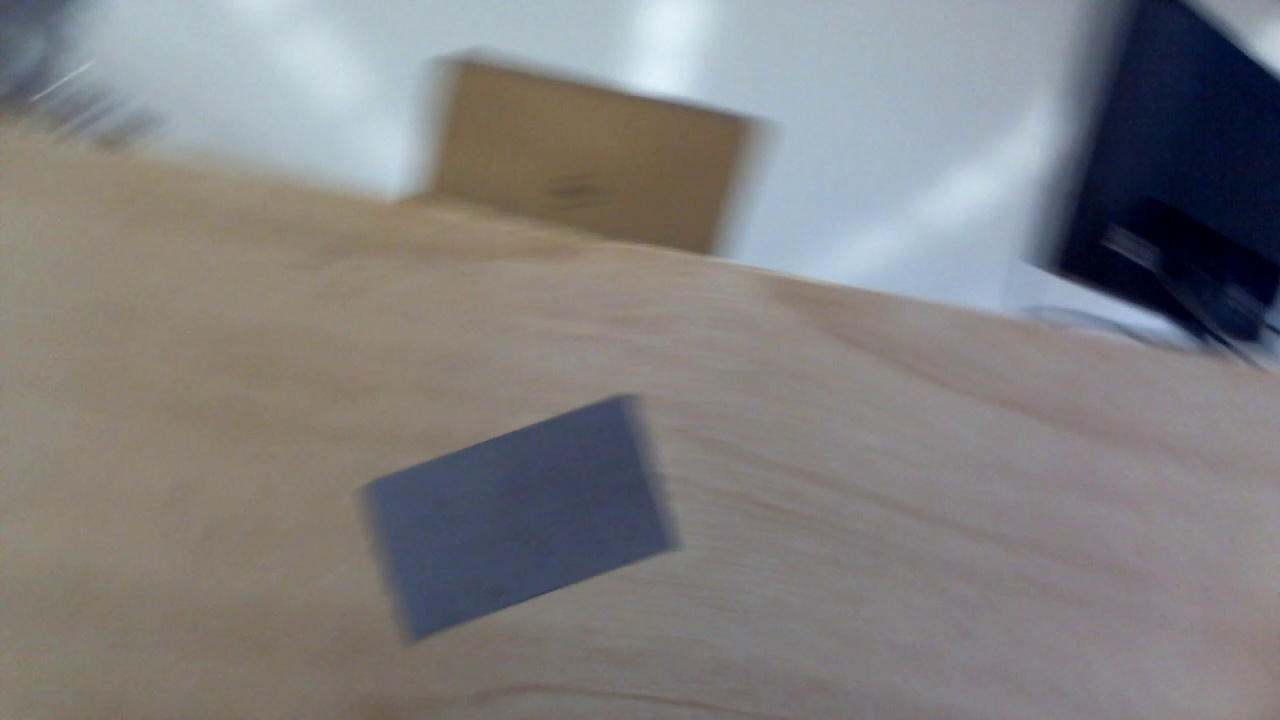Tape: (350, 394, 685, 651)
